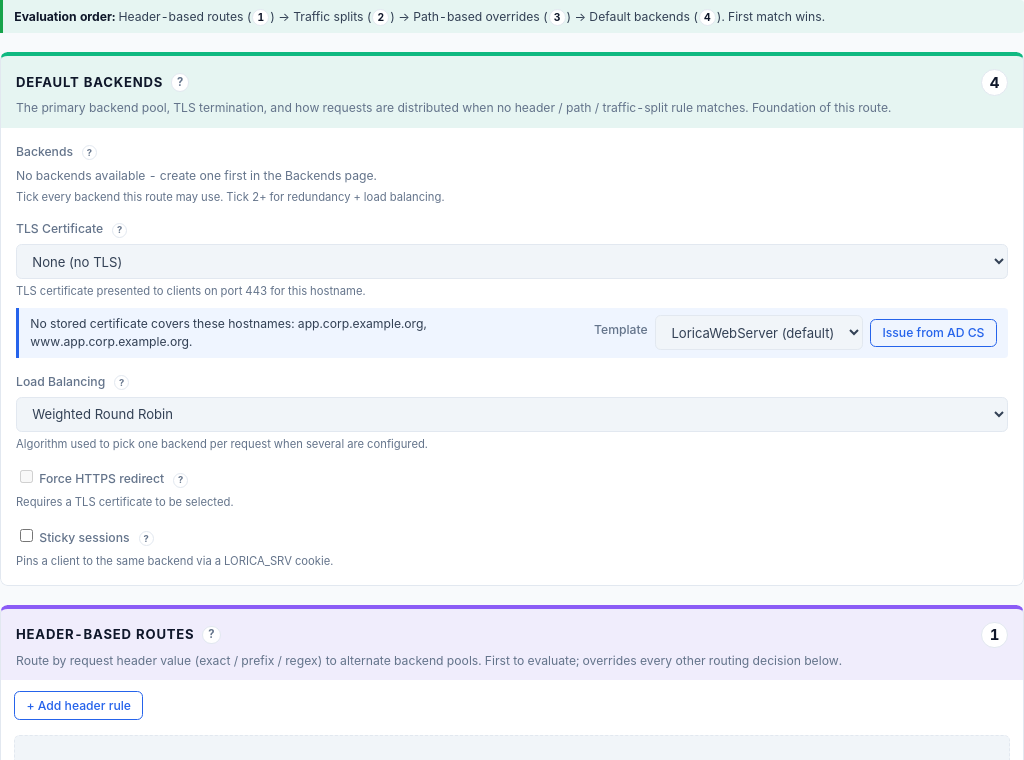
Test: RoutingTab AD CS issuance › shows a refusal verbatim inline
Click the button "Issue from AD CS": (933, 333) [870,318,997,347]
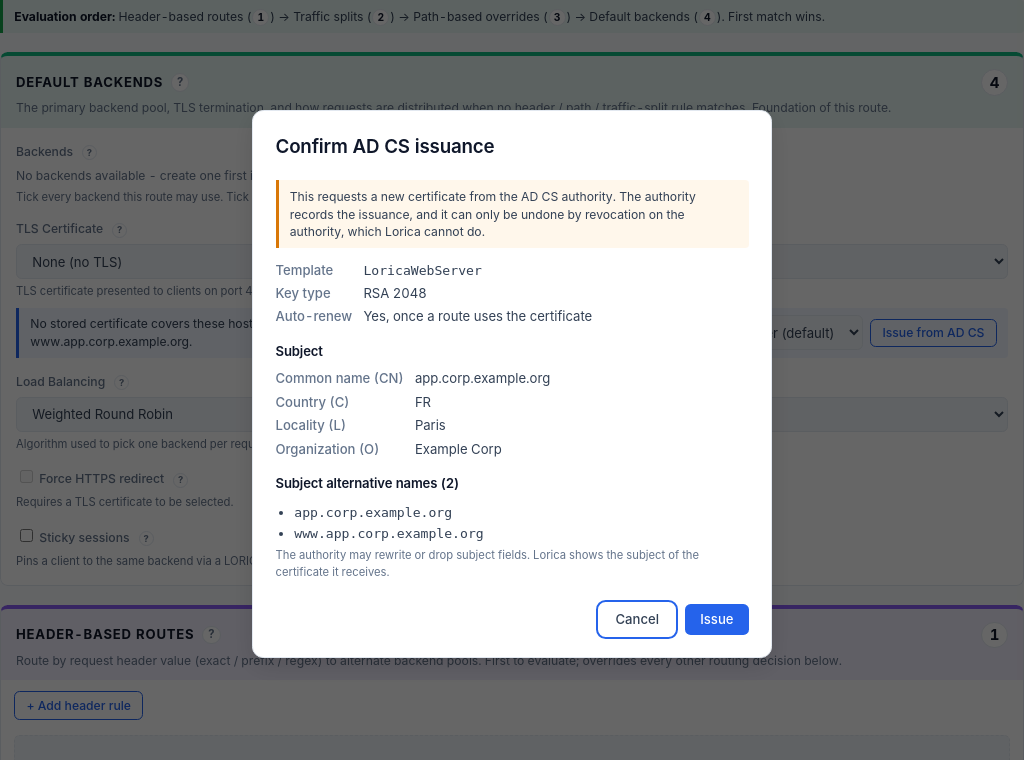
Click the button "Issue": (717, 619) [685,604,748,634]
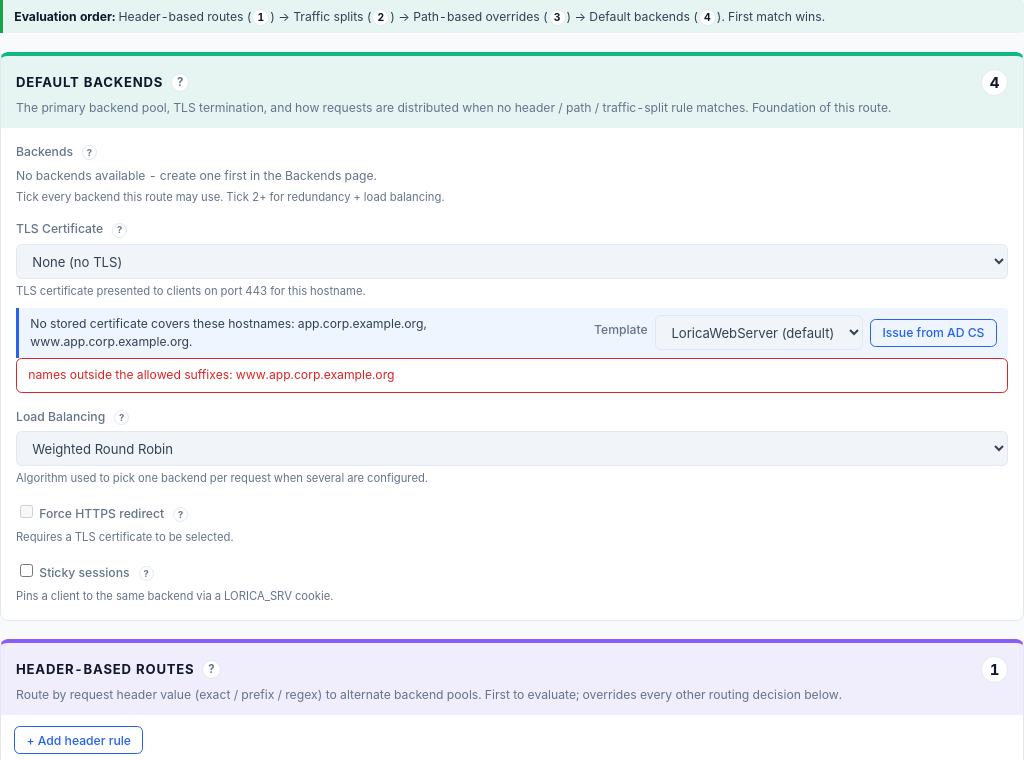
Expected: the message with test id "adcs-route-outcome" reads "names outside the allowed suffixes: www.app.corp.example.org", [28,367,395,382]
